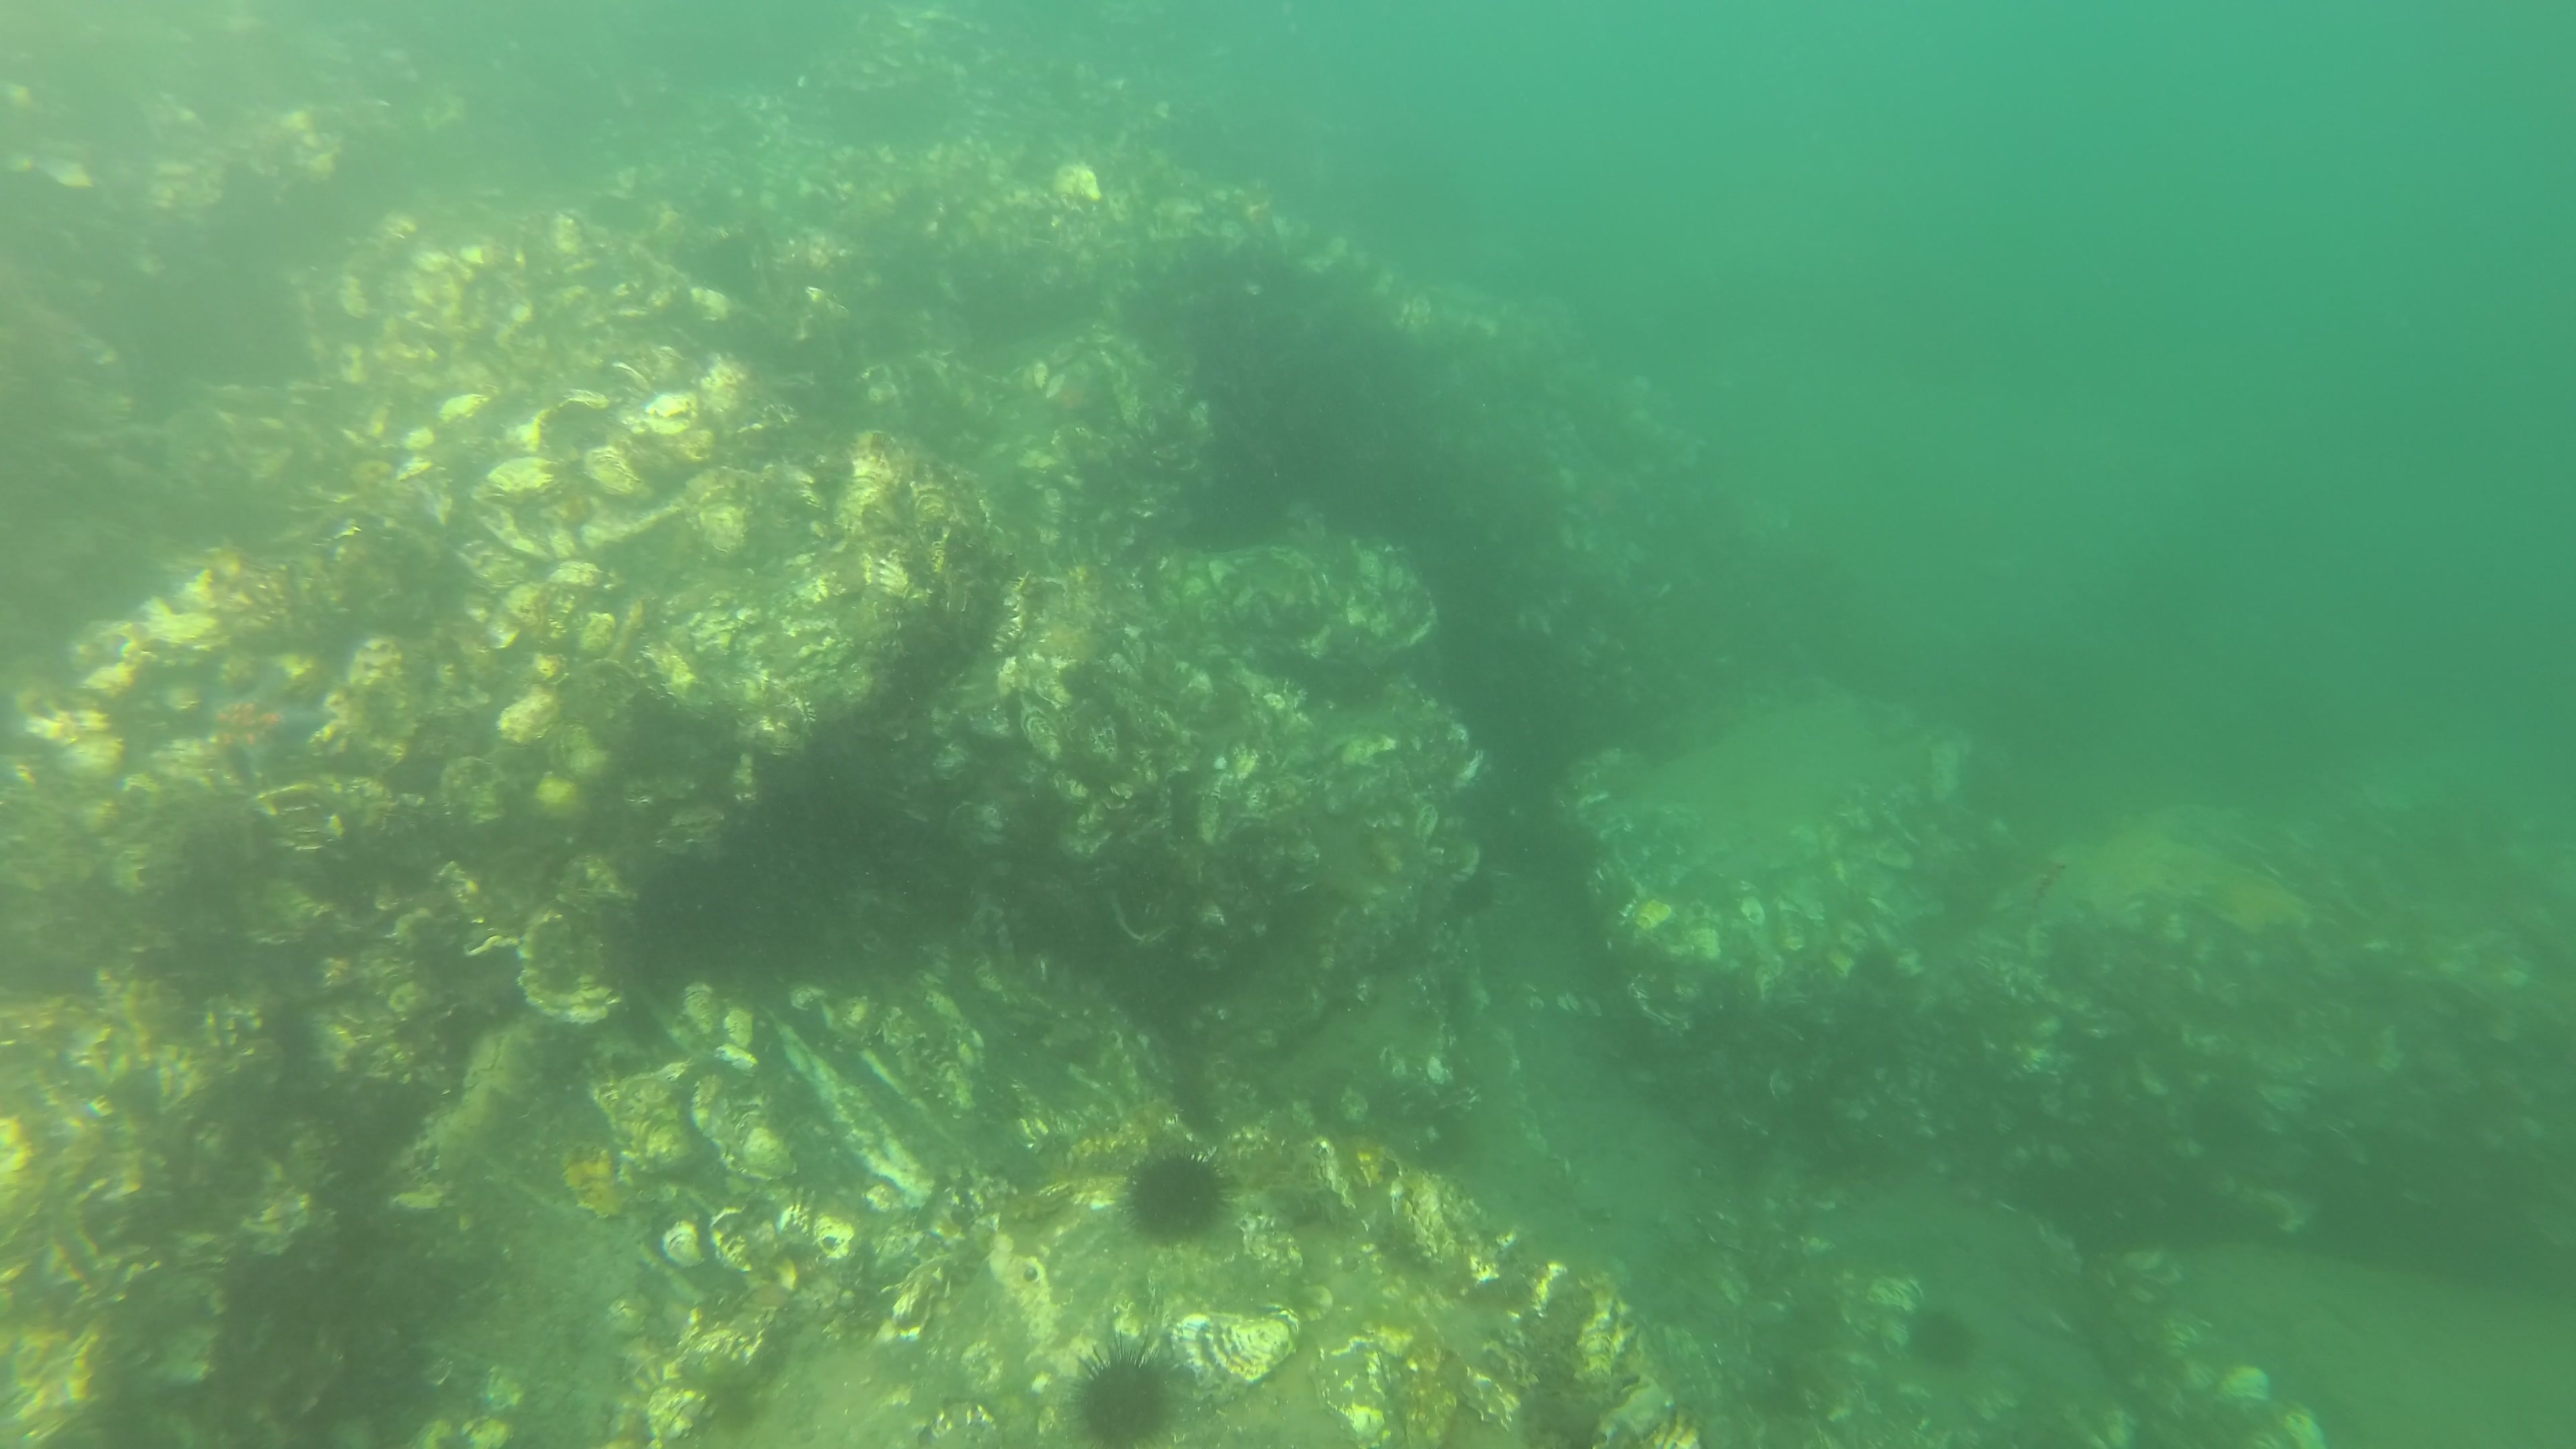echinus: (1060, 1345, 1192, 1449), (1125, 1150, 1233, 1249), (1909, 1300, 1967, 1362)
starfish: (191, 685, 324, 782), (1039, 370, 1106, 426)
